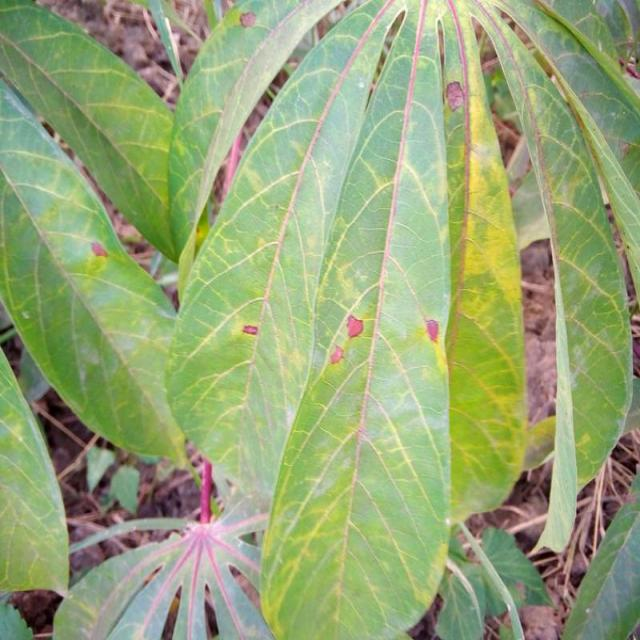cassava leaf: (0, 0, 638, 638), (164, 0, 454, 638), (0, 72, 188, 470)
